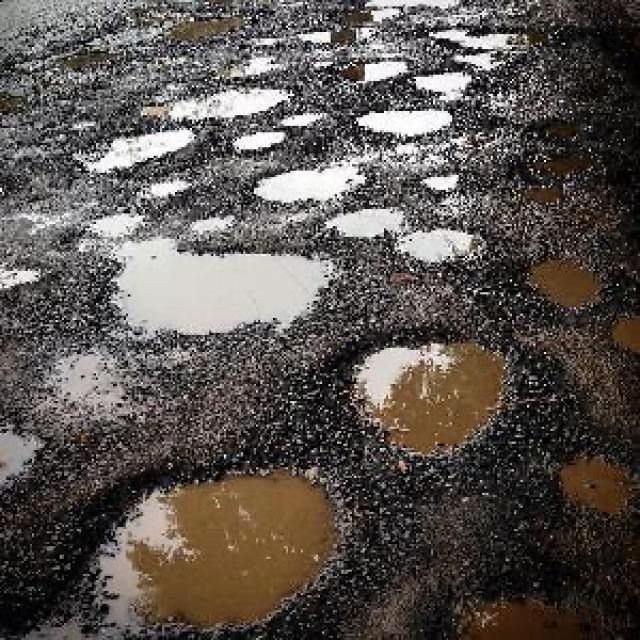Pothole: (70, 458, 350, 636), (96, 241, 346, 346), (346, 331, 514, 456), (410, 563, 620, 640), (539, 435, 640, 522), (140, 81, 298, 124), (518, 250, 608, 314), (79, 126, 203, 171), (424, 23, 540, 68), (250, 160, 371, 201), (392, 226, 490, 269), (2, 422, 56, 491), (354, 102, 452, 136), (322, 205, 410, 239), (335, 58, 420, 83), (414, 70, 478, 94), (232, 130, 286, 154), (608, 311, 640, 350), (422, 171, 463, 194)
